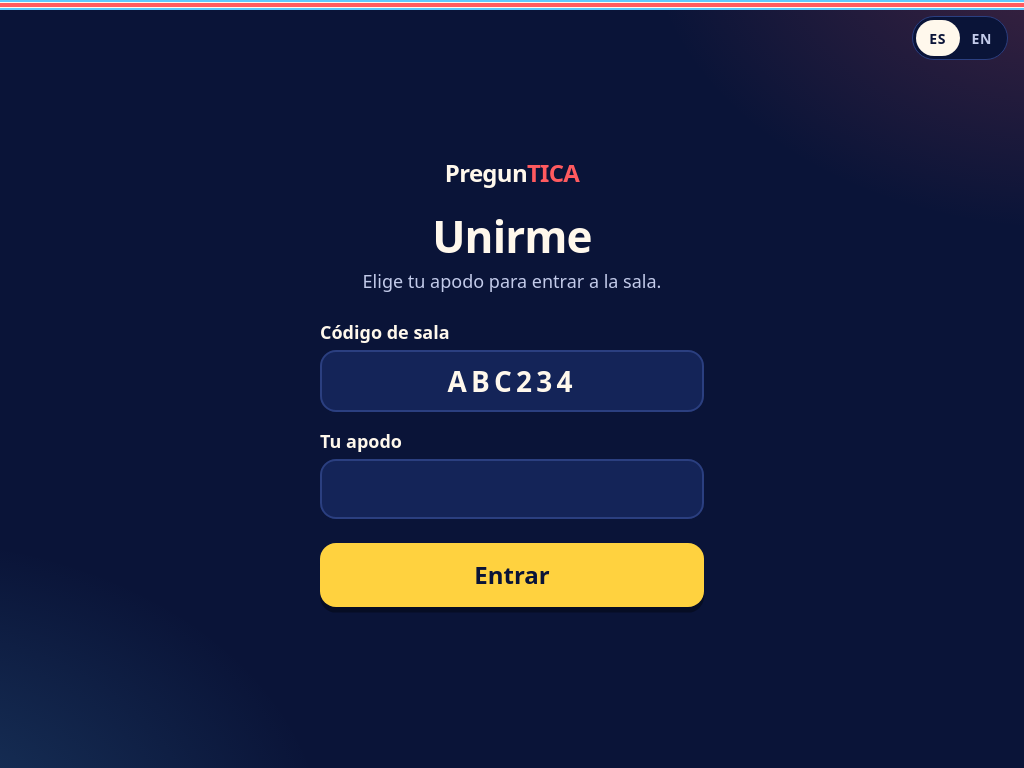
Test: join › NICKNAME_TAKEN explains what happened and keeps the form usable
Type "Tica" into the field labelled "Tu apodo". click: (512, 489)
box: [320,459,704,519]
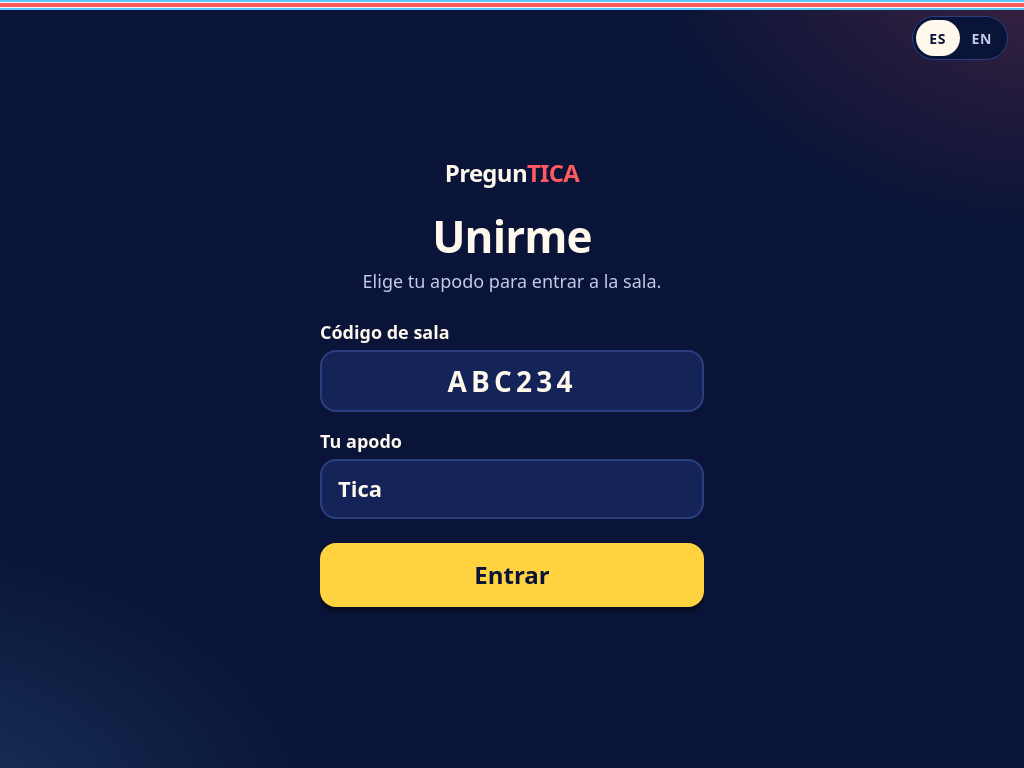
Click the button "Entrar". click: (512, 575)
box: [320,543,704,607]
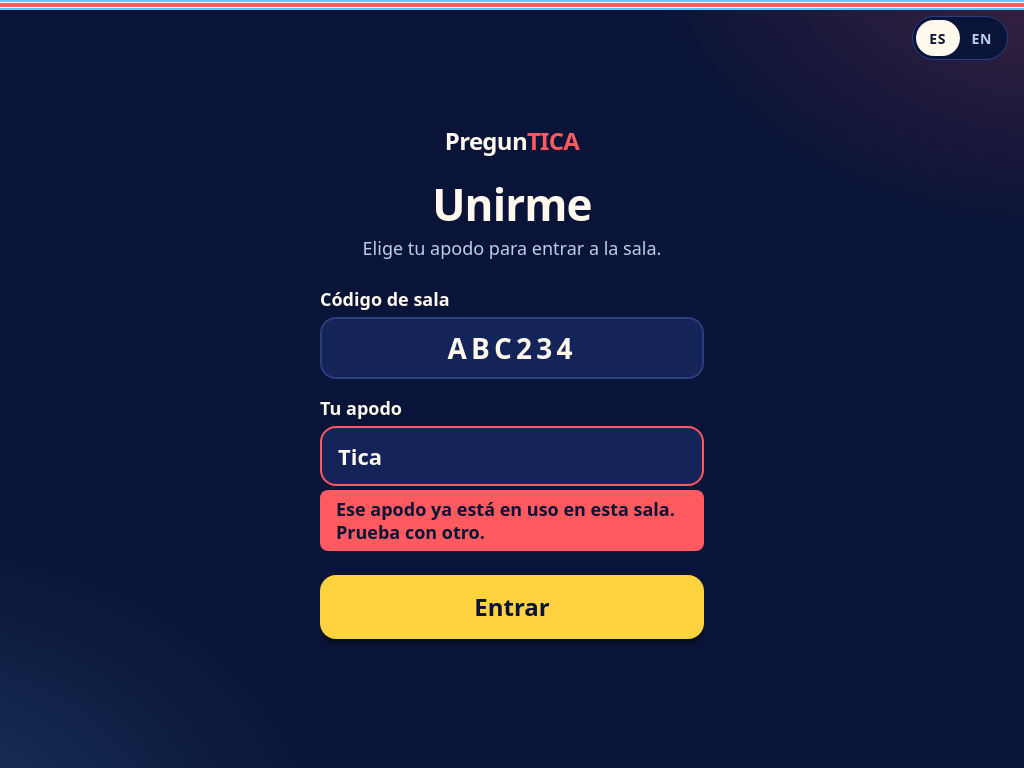
Check: the button "Entrar" is enabled, box [320,575,704,639]
Check: the message reads "Ese apodo ya está en uso en esta sala. Prueba con otro.", box [336,497,675,544]
